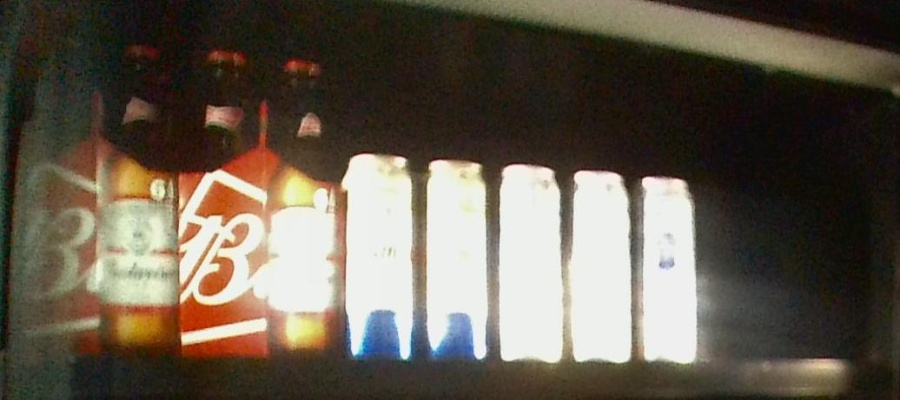bottle: (177, 48, 347, 360), (18, 34, 175, 358), (500, 160, 698, 363), (347, 153, 492, 366)
